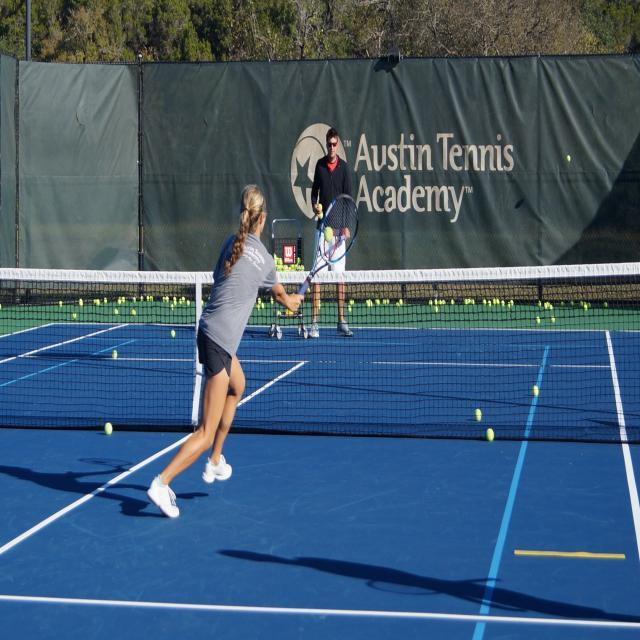court: (0, 369, 640, 640)
net: (2, 253, 640, 447)
player: (137, 165, 356, 525)
